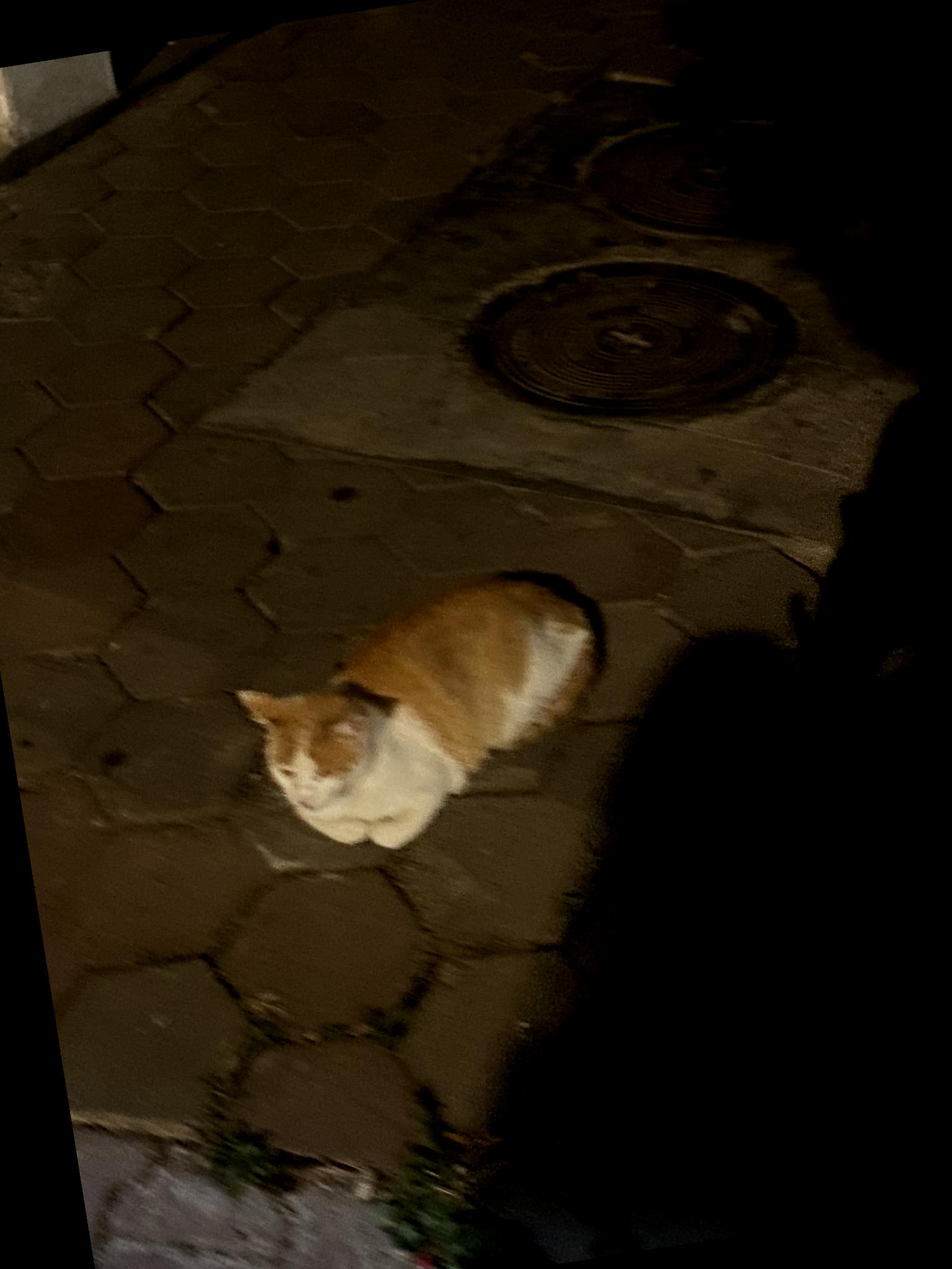macka: (221, 560, 623, 869)
